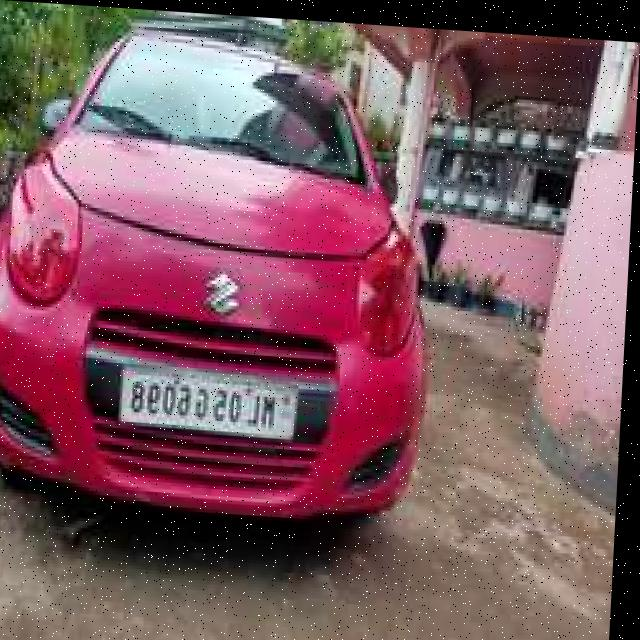plate: (122, 359, 302, 440)
